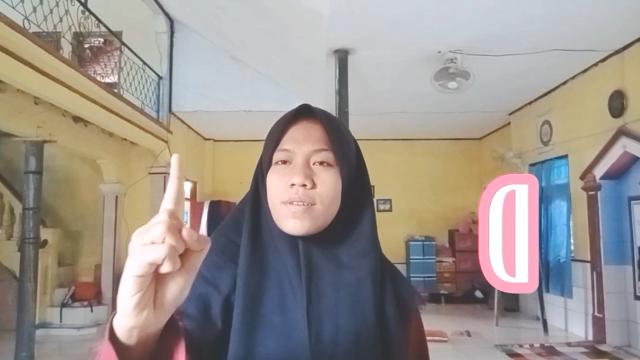D: (109, 152, 213, 336)
